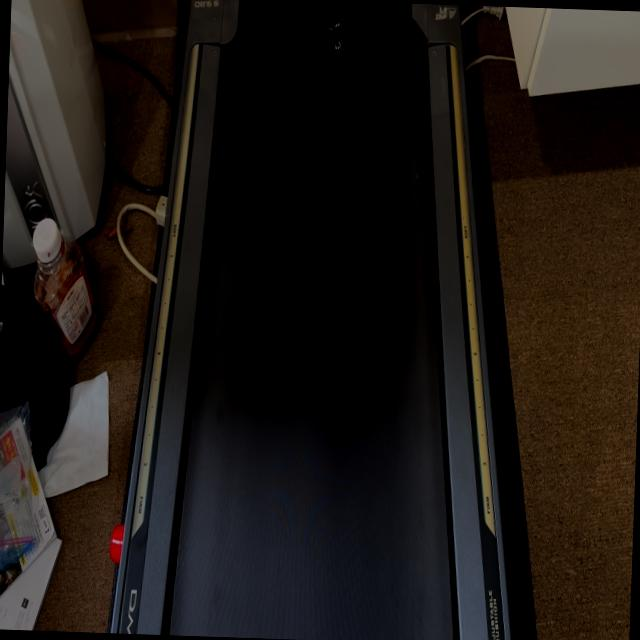Trash: (326, 10, 352, 52)
